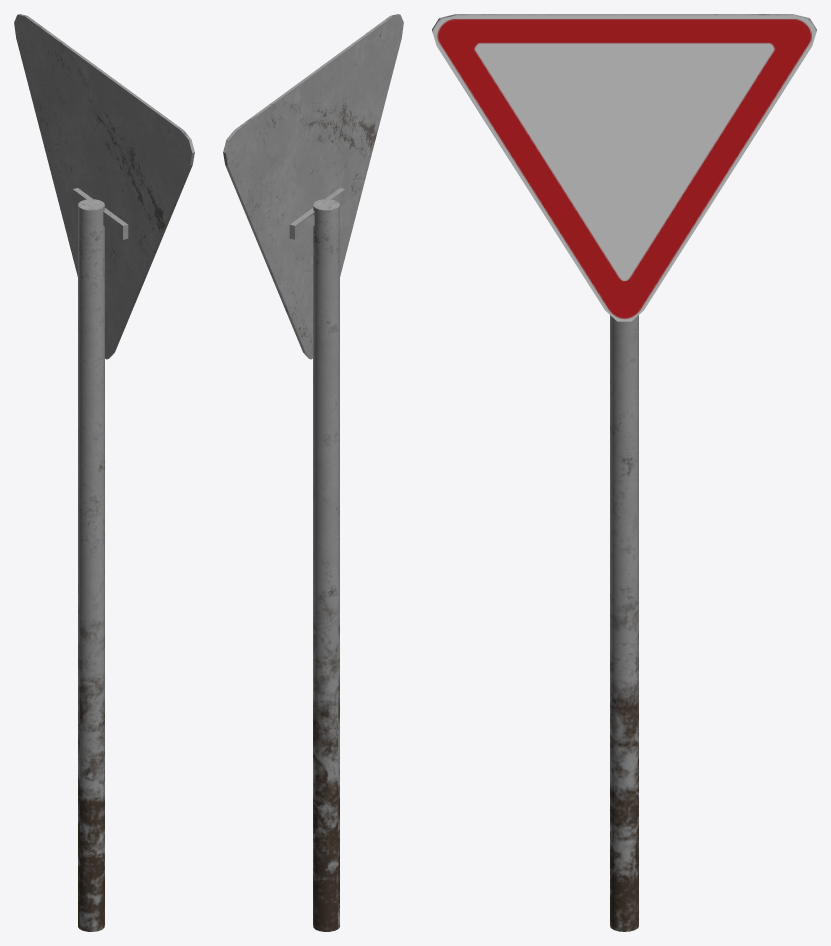
File: nonprioritySign.fbx
The picture shows the model from 3 angles, left to right: view 1: azimuth 30°, elevation 25°; view 2: azimuth 150°, elevation 25°; view 3: azimuth 270°, elevation 25°; orthographic projection. The views are drawn at different scales.
Parts seen in each view (by area): view 1: signs.003; view 2: signs.003; view 3: signs.003.
Boxes of the visible parts, bbox=[...] form: signs.003: bbox=[14, 14, 194, 931]; signs.003: bbox=[223, 14, 403, 931]; signs.003: bbox=[432, 14, 816, 931].
Bounding box in the file's own units: 7.58 × 236 × 89.51.
1 material, 1 textured.
